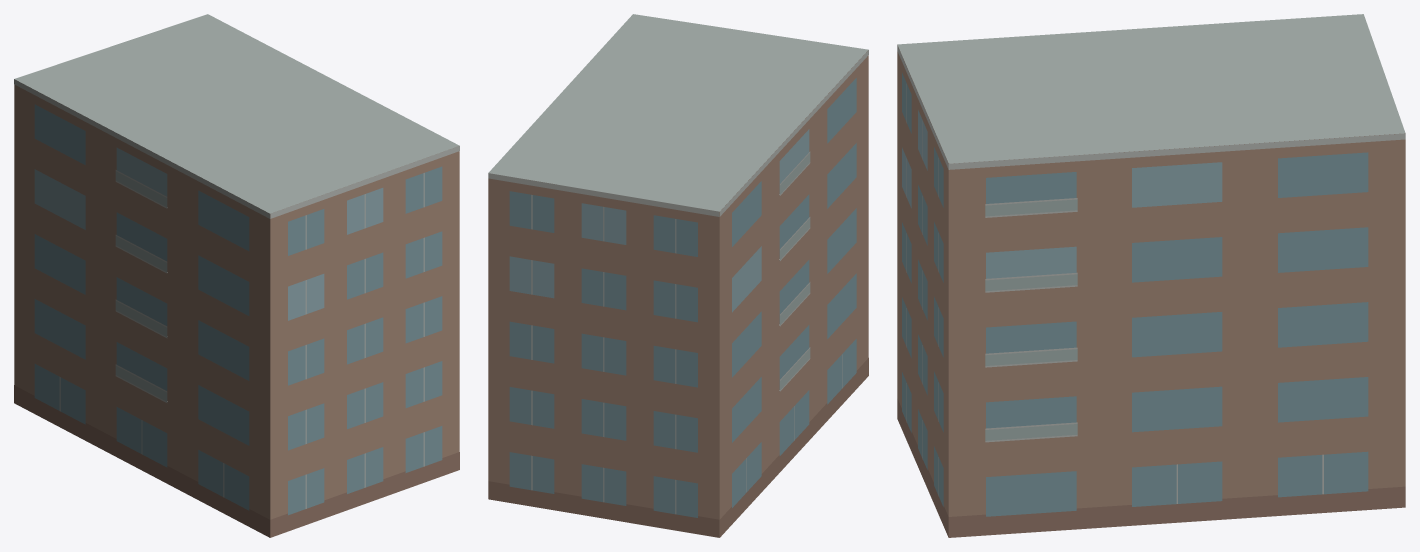
The model's file is survey-upis-32763204.glb.
3 renders of one model, left to right at view 1: azimuth 30°, elevation 25°; view 2: azimuth 150°, elevation 25°; view 3: azimuth 270°, elevation 25°, orthographic. The views are drawn at different scales.
Visible parts, largest first — view 1: survey-upis-32763204.tmp; view 2: survey-upis-32763204.tmp; view 3: survey-upis-32763204.tmp.
Boxes of the visible parts, <box> form: survey-upis-32763204.tmp: <box>14,14,459,537</box>; survey-upis-32763204.tmp: <box>488,14,868,537</box>; survey-upis-32763204.tmp: <box>897,14,1405,537</box>.
Size of the model in its own units: 12.8 by 14.9 by 18.36.
